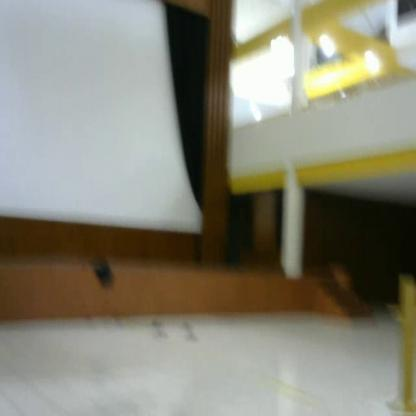pole: (385, 272, 416, 416)
